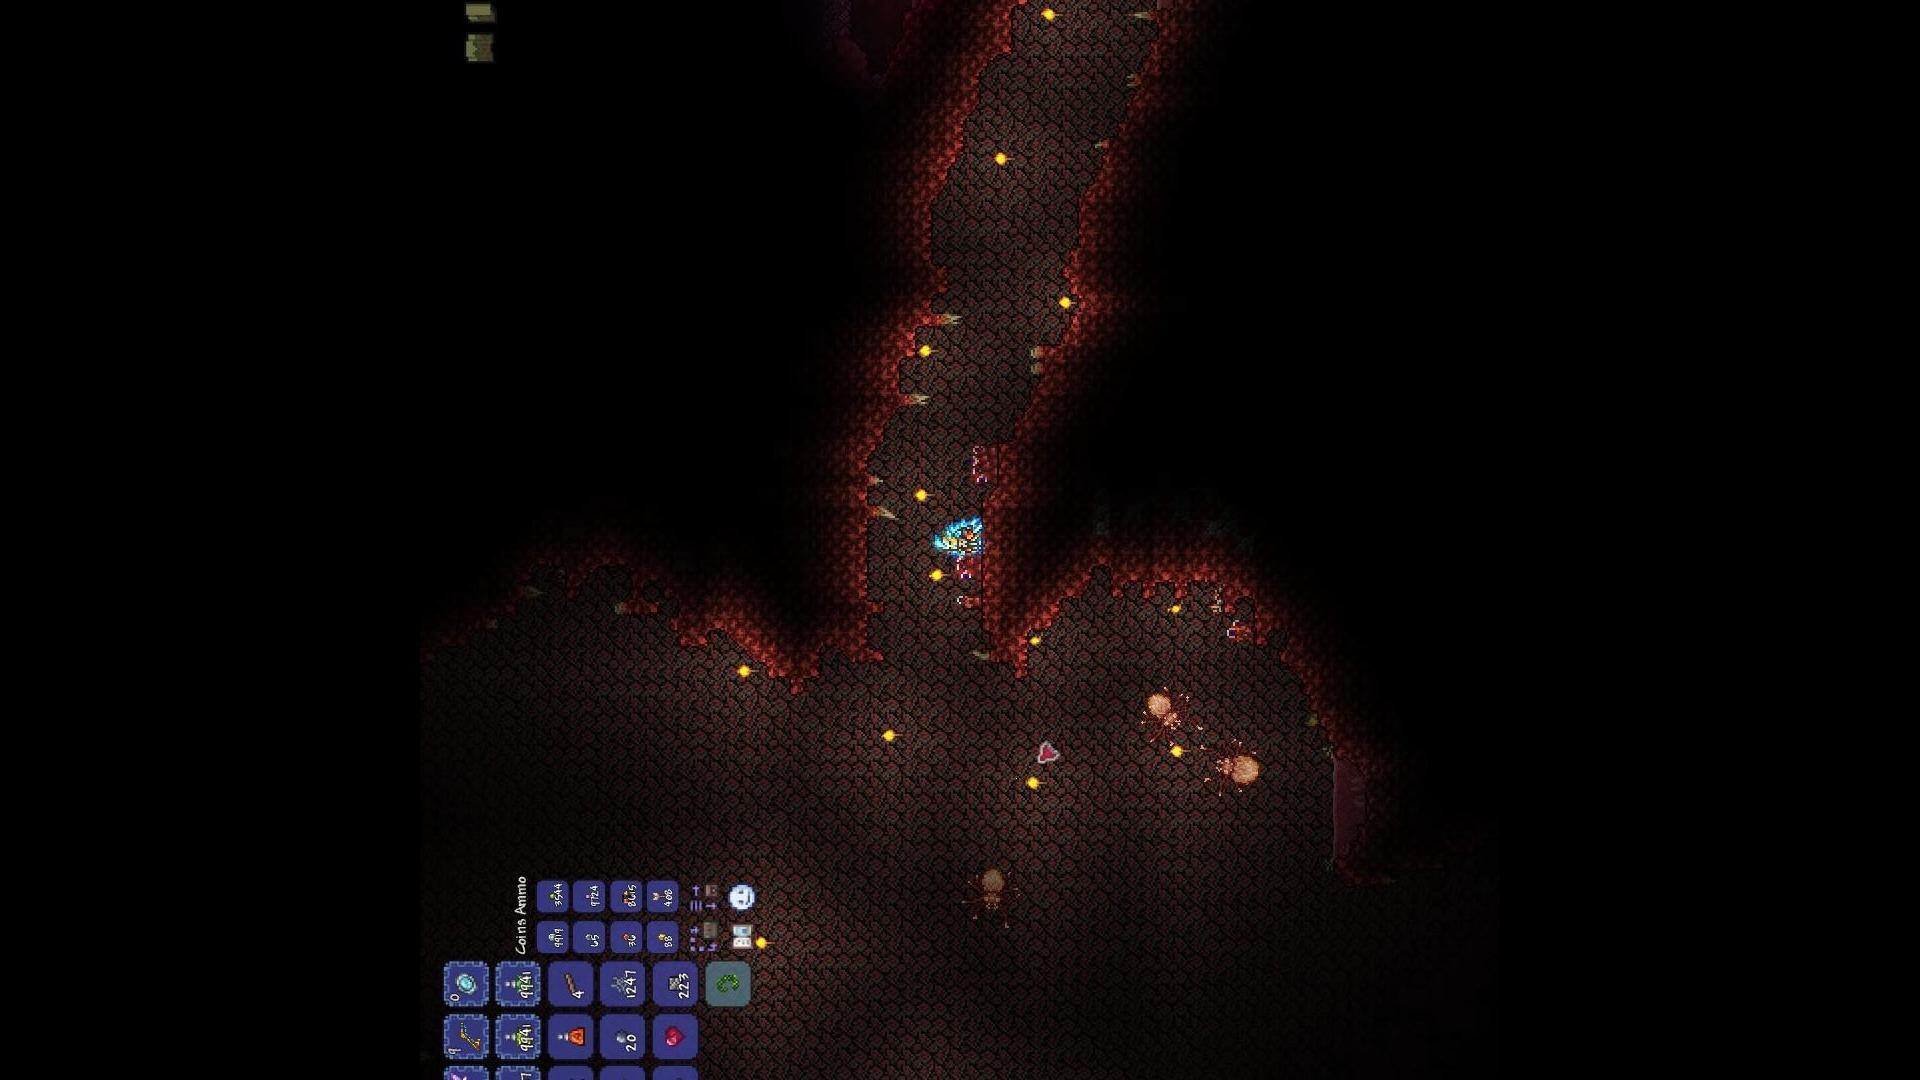altar: (971, 444, 998, 484)
cobwebI: (608, 968, 632, 998)
lifeC: (657, 1022, 690, 1048)
mirror: (451, 971, 477, 996)
spider: (1125, 669, 1196, 742), (1200, 728, 1266, 802), (959, 862, 1033, 928)
